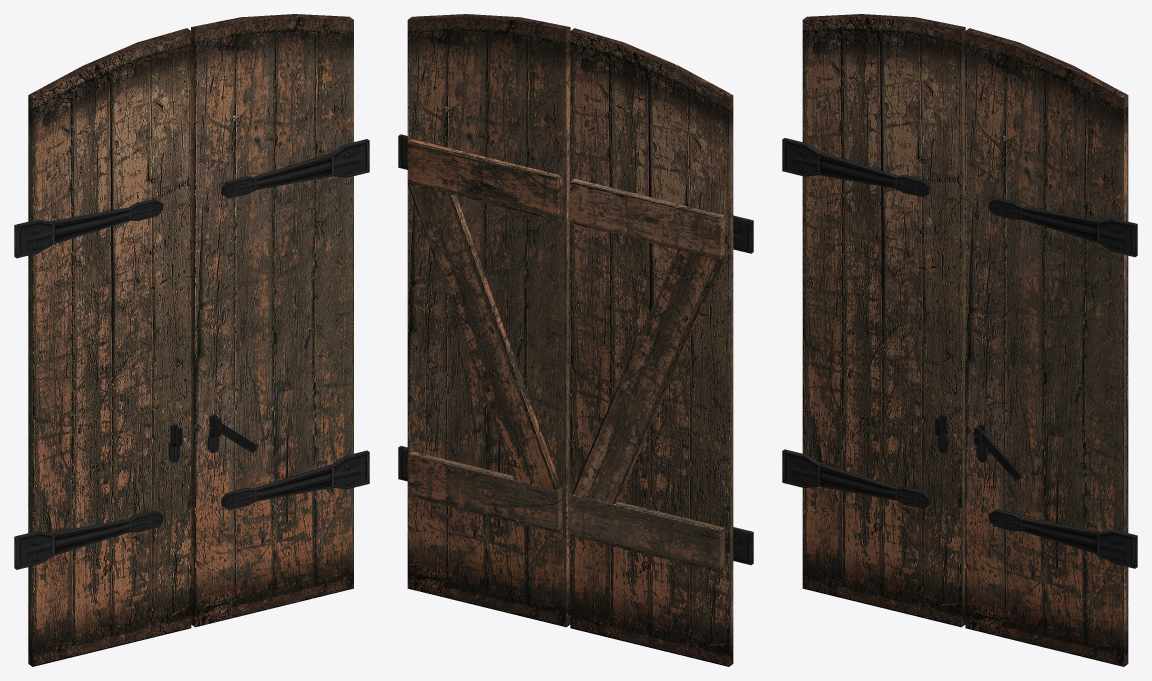
File: factory_facade_shutters.DAE
3 views of the same model, side by side, from view 1: azimuth 30°, elevation 25°; view 2: azimuth 150°, elevation 25°; view 3: azimuth 330°, elevation 25° (orthographic).
Visible parts, largest first — view 1: Box019, Box022, Box029, Box030; view 2: Box019, Box022, Box030, Box029; view 3: Box019, Box022, Box029, Box030.
Boxes of the visible parts, x1,y1,x2,y2 form: Box019: [28, 28, 191, 666]; Box022: [191, 14, 353, 627]; Box029: [207, 139, 369, 509]; Box030: [14, 199, 182, 569]; Box019: [570, 28, 733, 666]; Box022: [407, 14, 570, 627]; Box030: [733, 215, 753, 565]; Box029: [398, 134, 407, 481]; Box019: [802, 14, 965, 627]; Box022: [965, 28, 1128, 666]; Box029: [973, 198, 1137, 568]; Box030: [782, 138, 948, 508].
Size of the model in its own units: 1.79 by 2.9 by 0.135.
